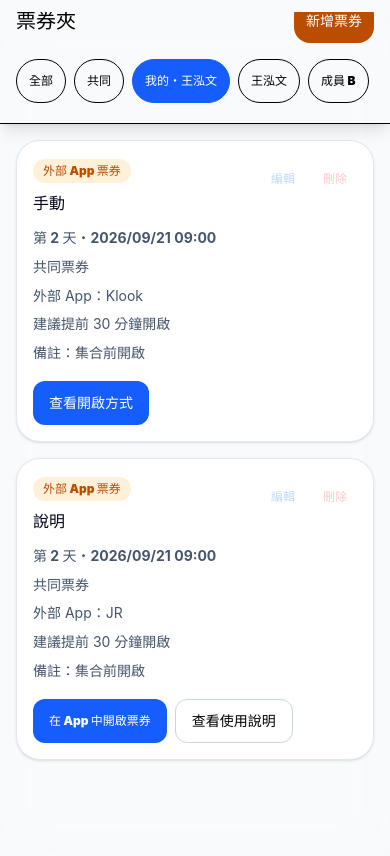
Test: TicketWalletSection › expands safe manual instructions and custom instructions
This screenshot has width=390, height=856.
(page scrolled)
What coordinates should you click on to do the following:
click the button with test id "ticket-filter-all"
I would click on:
 (41, 81)
Its box is [16, 59, 66, 103].
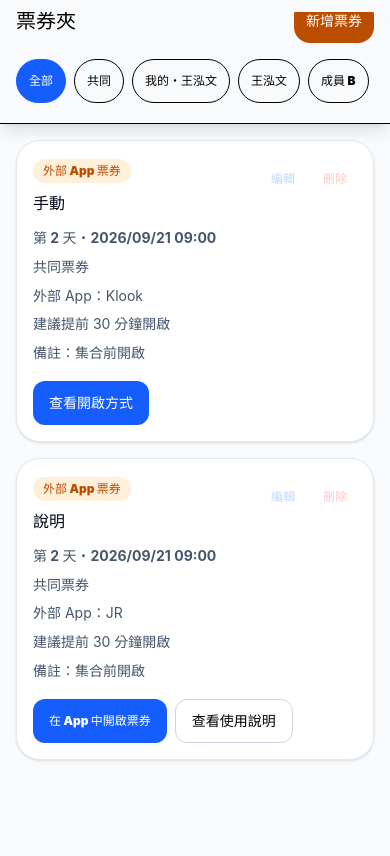
What coordinates should you click on to do the following:
click the button "查看開啟方式"
I would click on:
 (91, 403)
Its box is [33, 381, 149, 425].
(page scrolled)
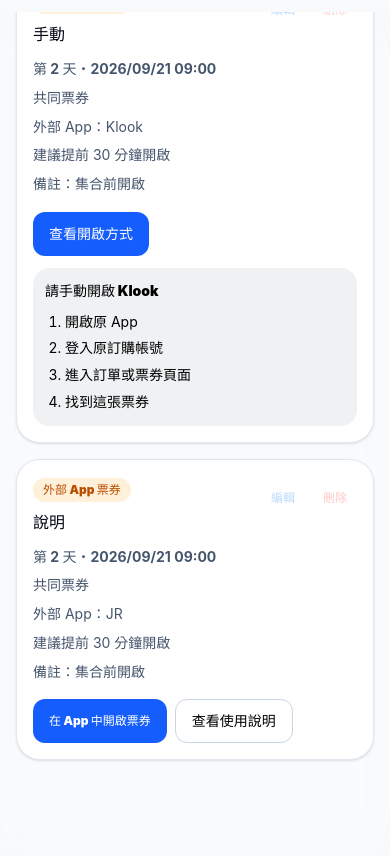
Check: the text "請手動開啟 Klook" is shown, box [45, 282, 159, 299]
Check: the list item "開啟原 App" is shown, box [65, 312, 138, 330]
Check: the list item "找到這張票券" is shown, box [65, 393, 149, 410]
What coordinates should you click on to do the following:
click the button "查看使用說明"
I would click on:
 (234, 721)
Its box is [175, 699, 293, 743].
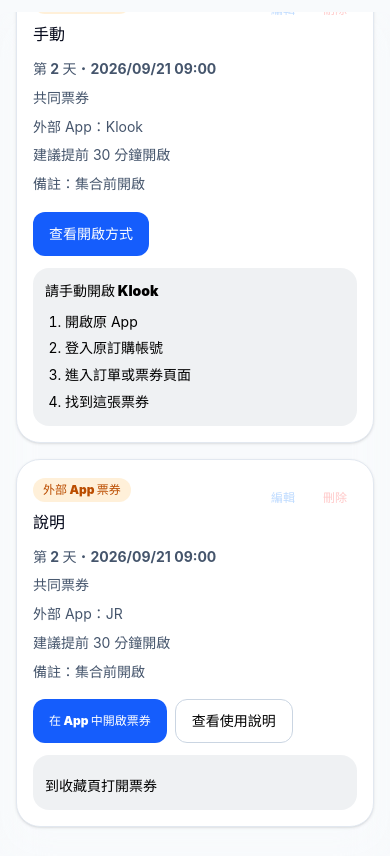
Check: the text "到收藏頁打開票券" is shown, box [45, 777, 157, 794]
